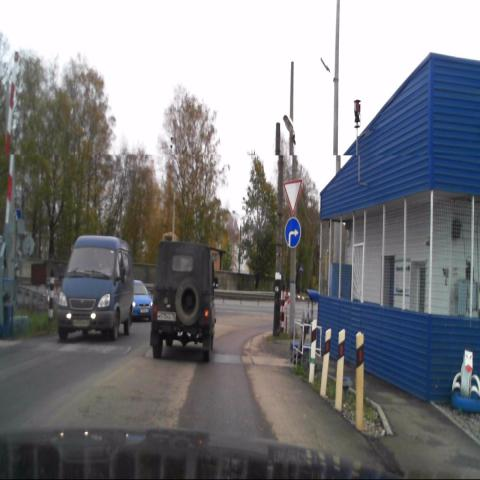2_4: (284, 179, 302, 215)
4_1_2: (284, 217, 300, 248)
